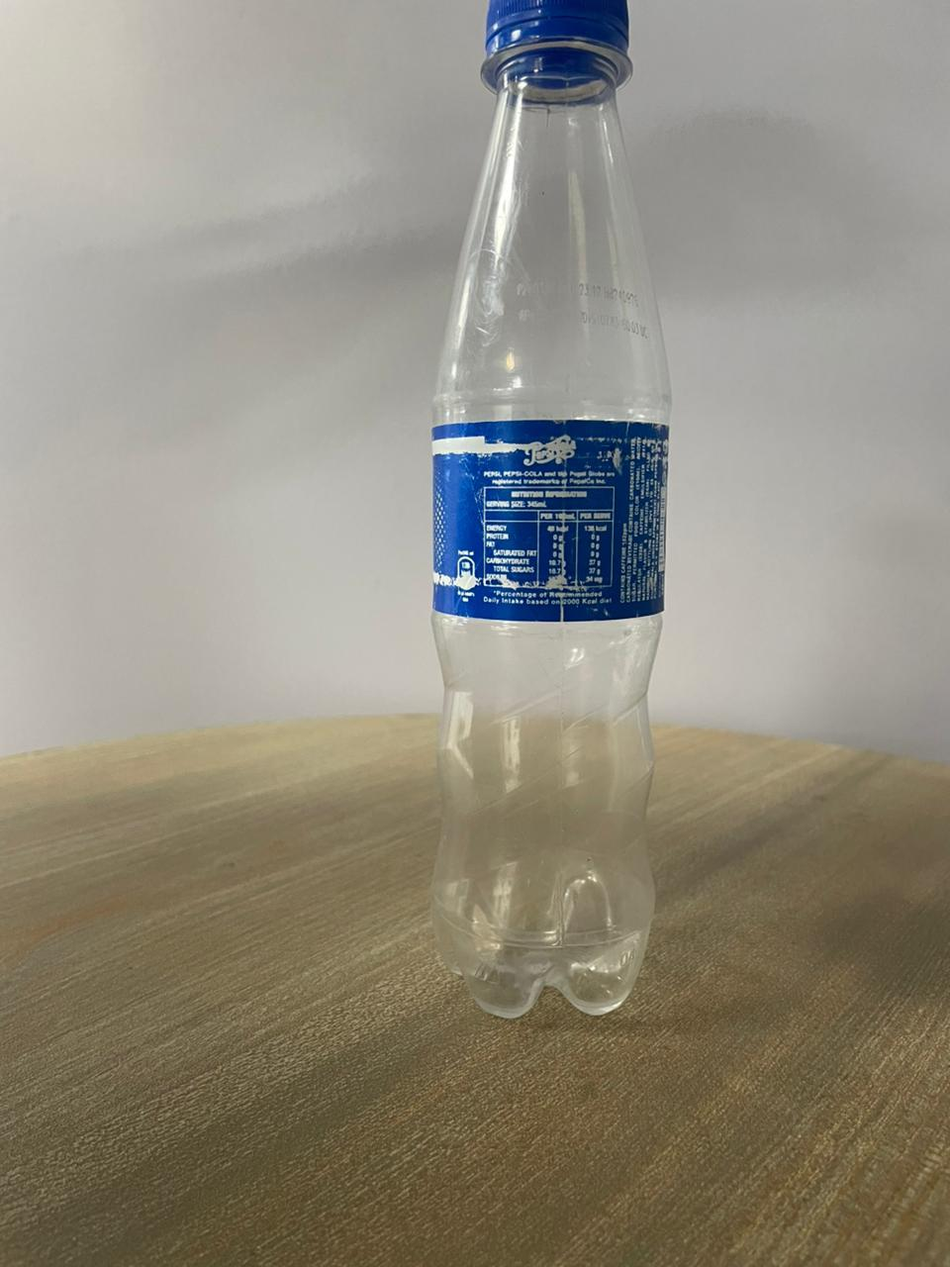Pepsi Bottle: (408, 0, 681, 1037), (413, 0, 681, 1031)
